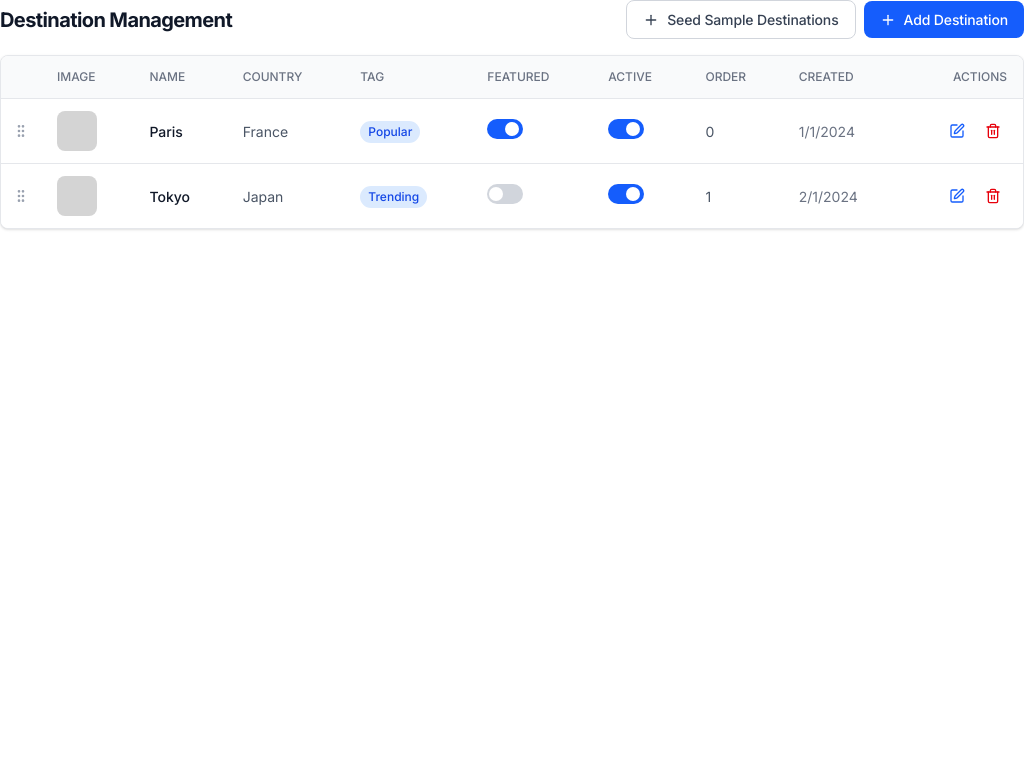
Test: DestinationManagement › Delete confirmation dialog (Requirements 2.9) › closes confirmation dialog when Cancel is clicked
expect the text "Paris" is shown: met, box x1=133 y1=98 x2=227 y2=164
What coordinates should you click on to do the following:
click the button titled "Delete" in the row of "Paris"
I would click on:
 (993, 131)
Its box is x1=979 y1=117 x2=1007 y2=145.
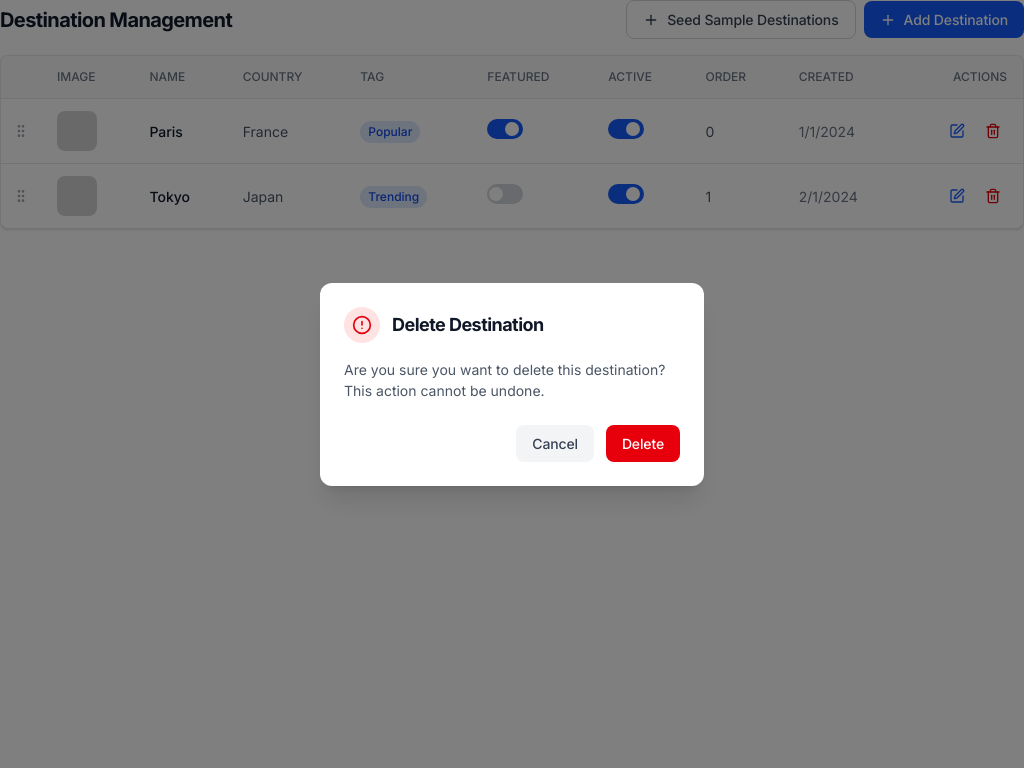
expect the heading "Delete Destination" is shown: met, box x1=392 y1=315 x2=544 y2=334
// Click Cancel
What coordinates should you click on to do the following:
click the button "Cancel"
I would click on:
 (555, 443)
Its box is x1=516 y1=424 x2=594 y2=462.
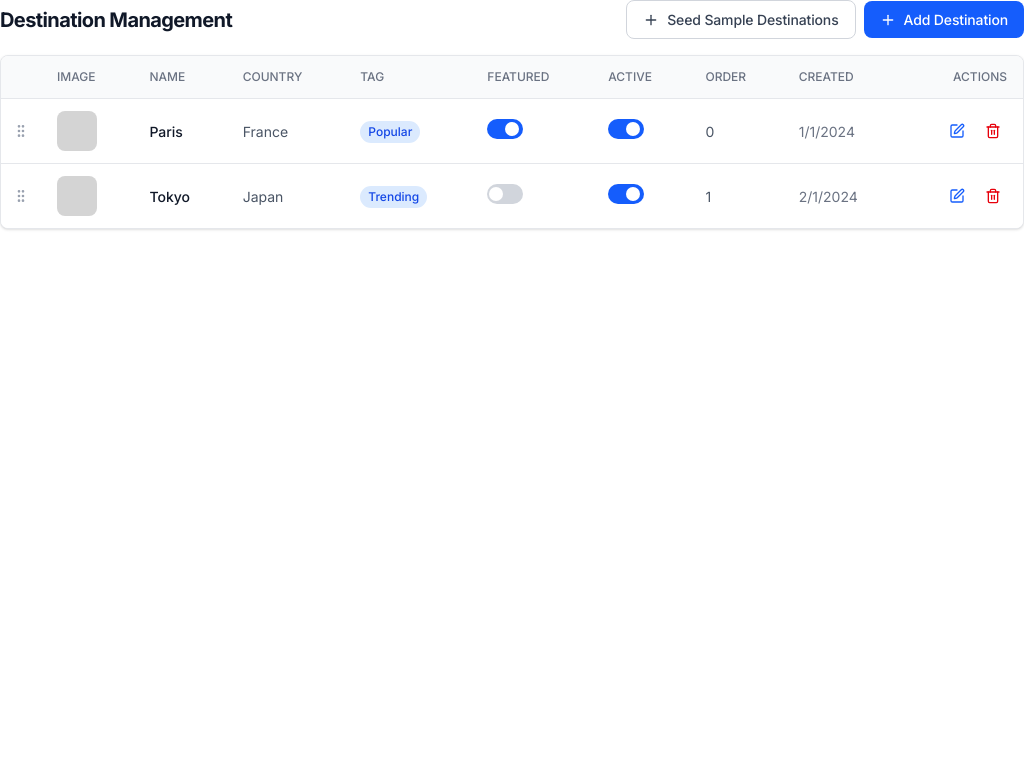
expect the heading "Delete Destination" is gone: met
